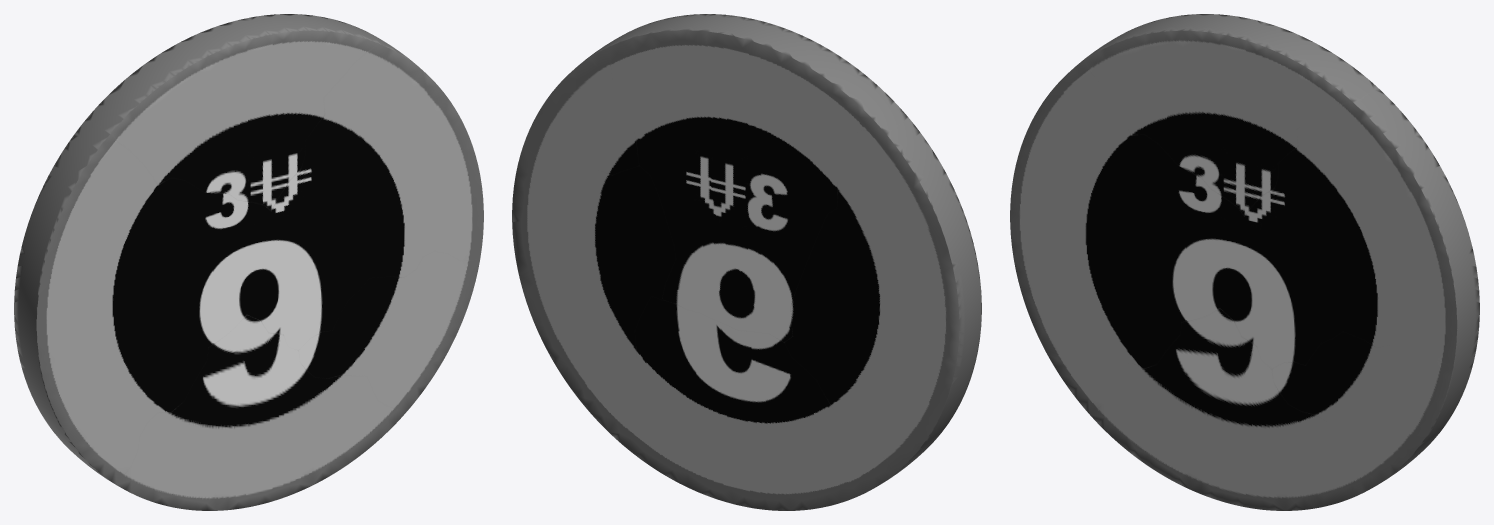
3 renders of one model, left to right at view 1: azimuth 30°, elevation 25°; view 2: azimuth 150°, elevation 25°; view 3: azimuth 330°, elevation 25°, orthographic.
Parts seen in each view (by area): view 1: node_id27; view 2: node_id27; view 3: node_id27.
Part boxes in pixels (bbox=[...]): node_id27: bbox=[14, 14, 483, 510]; node_id27: bbox=[512, 14, 981, 510]; node_id27: bbox=[1010, 14, 1479, 510].
Bounding box in the file's own units: 0.512 × 0.512 × 0.0447.
Materials: 1 (1 with a texture image).
